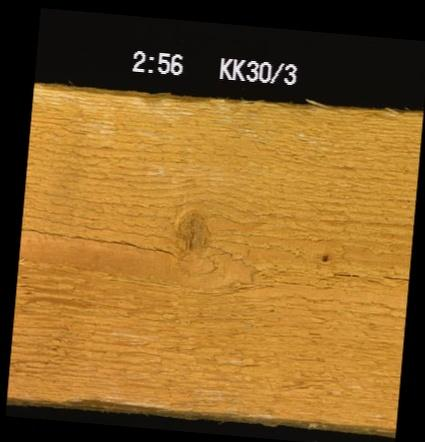small_knot: (315, 247, 331, 261)
split: (20, 234, 193, 256), (324, 269, 407, 280)
wave: (33, 86, 227, 103), (59, 383, 161, 411)
